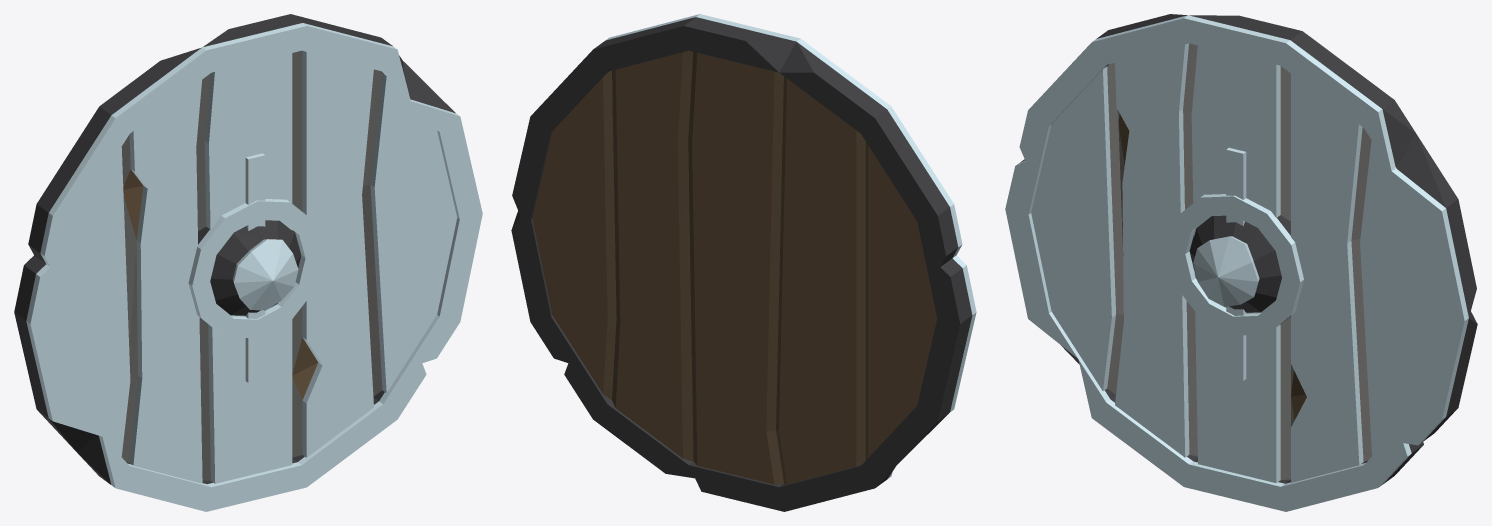
File: Decoracion_Escudo.glb
The picture shows the model from 3 angles, left to right: view 1: azimuth 30°, elevation 25°; view 2: azimuth 150°, elevation 25°; view 3: azimuth 330°, elevation 25°; orthographic projection.
Parts seen in each view (by area): view 1: SM_Prop_Shield_Decor_01_Snow; view 2: SM_Prop_Shield_Decor_01_Snow; view 3: SM_Prop_Shield_Decor_01_Snow.
Boxes of the visible parts, left/top/right/bottom form: SM_Prop_Shield_Decor_01_Snow: left=14, top=14, right=482, bottom=511; SM_Prop_Shield_Decor_01_Snow: left=511, top=14, right=976, bottom=511; SM_Prop_Shield_Decor_01_Snow: left=1005, top=14, right=1477, bottom=511.
Bounding box in the file's own units: 0.7578 × 0.7388 × 0.0954.
Materials: 1 (1 with a texture image).
